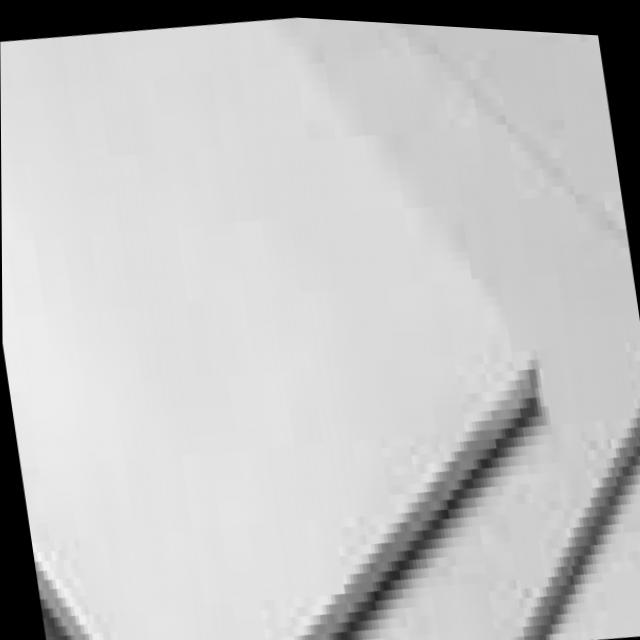metal-plates: (1, 15, 640, 640)
